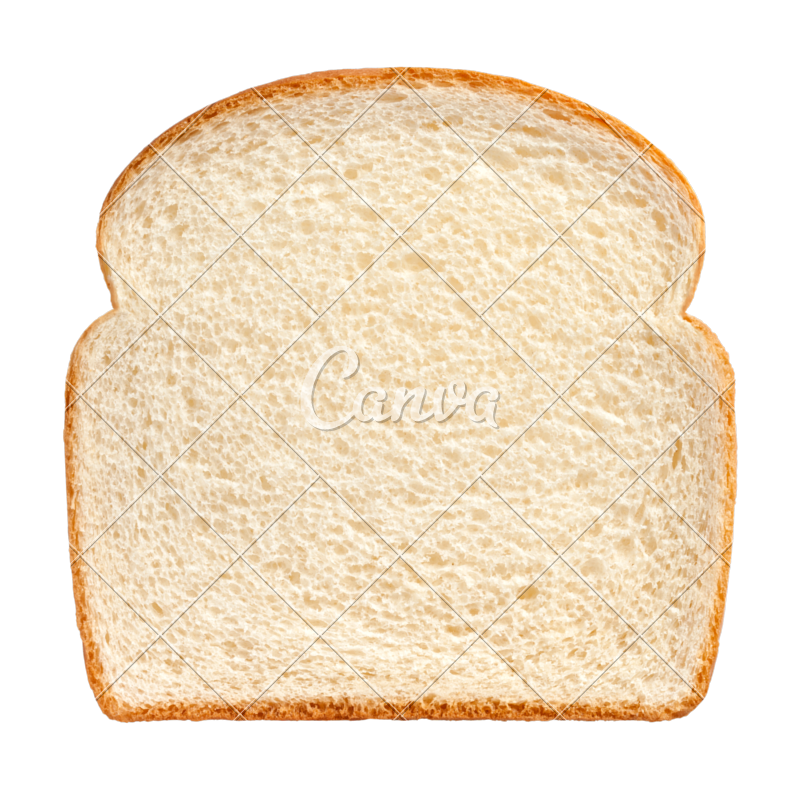slice of bread: (78, 70, 717, 721)
